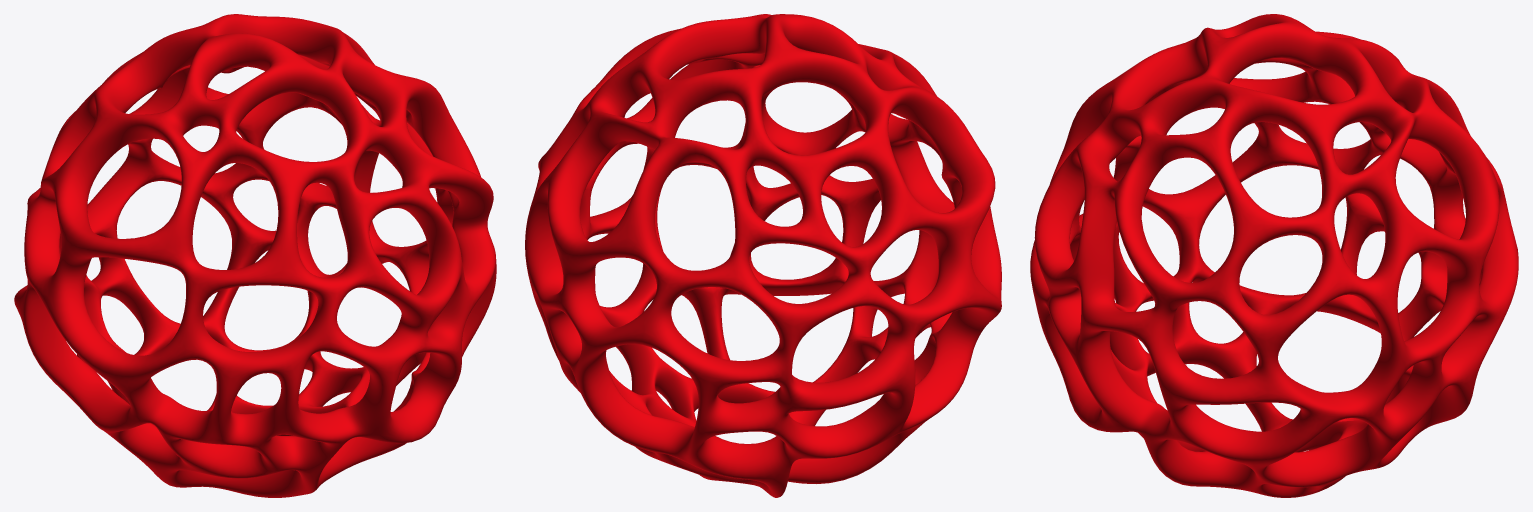
File: abstract.gltf
The picture shows the model from 3 angles, left to right: view 1: azimuth 30°, elevation 25°; view 2: azimuth 150°, elevation 25°; view 3: azimuth 270°, elevation 25°; orthographic projection.
Parts seen in each view (by area): view 1: VoronoiDyno.Bake; view 2: VoronoiDyno.Bake; view 3: VoronoiDyno.Bake.
Boxes of the visible parts, x1,y1,x2,y2 form: VoronoiDyno.Bake: (14, 14, 496, 497); VoronoiDyno.Bake: (525, 14, 1001, 497); VoronoiDyno.Bake: (1030, 14, 1518, 497).
Bounding box in the file's own units: 70.04 × 70.86 × 69.31.
